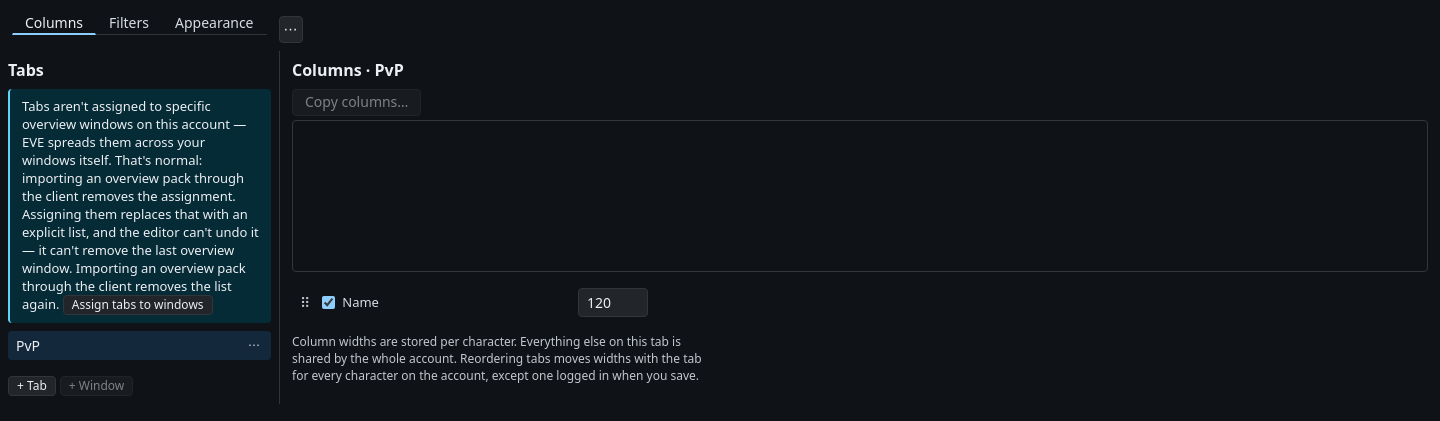
Test: the view menu › offers both pack commands and the window set-up
Click the button named "Overview actions" at (290, 30), box x1=278 y1=16 x2=302 y2=43
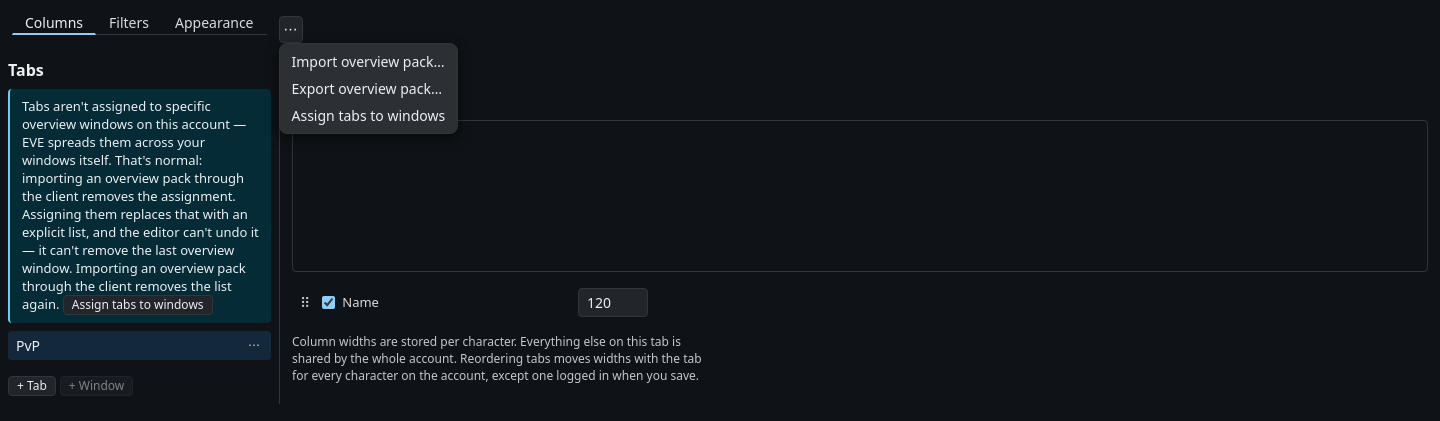
Expected: the menu item "Import overview pack…" is shown, x1=284 y1=48 x2=453 y2=75
Expected: the menu item "Export overview pack…" is shown, x1=284 y1=75 x2=453 y2=102
Expected: the menu item "Assign tabs to windows" is shown, x1=284 y1=102 x2=453 y2=129
